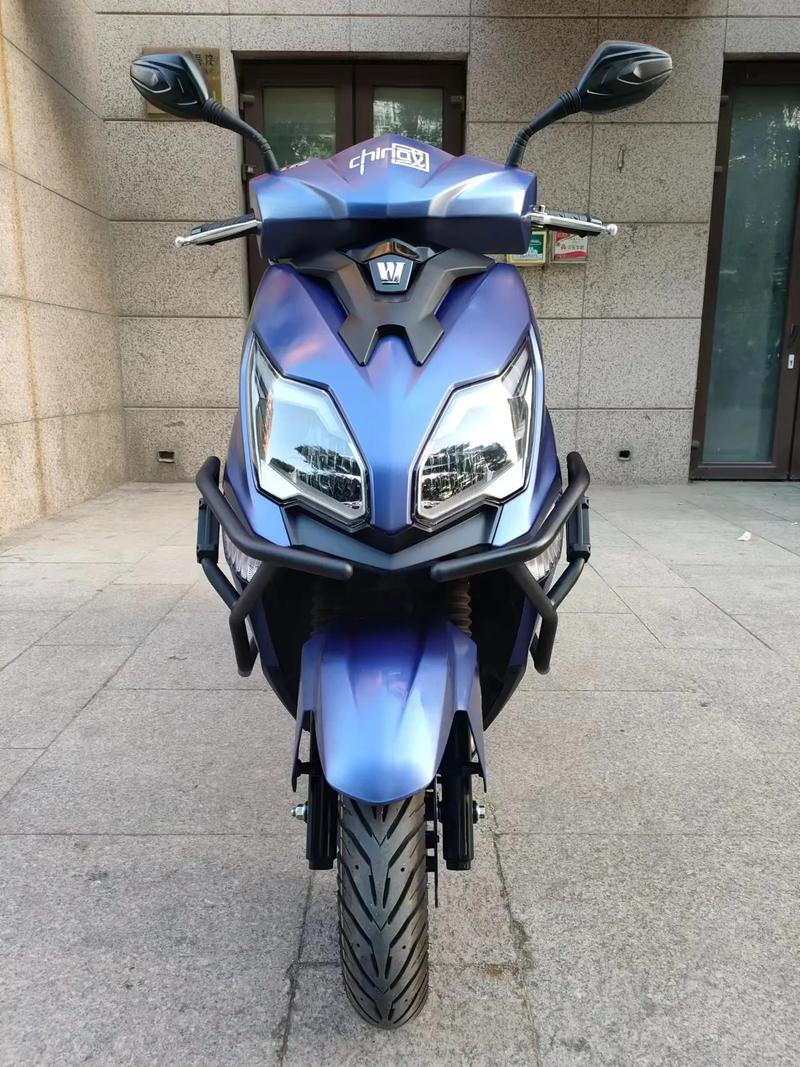摩托车: (180, 9, 675, 1044)
